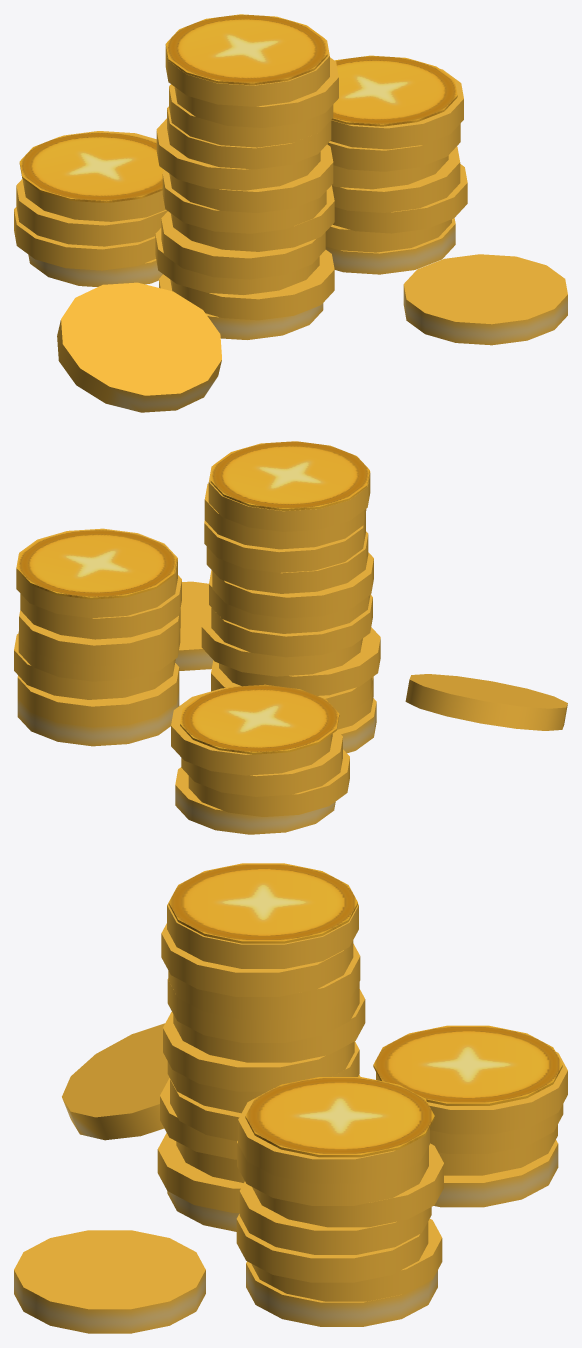
The model's file is Decor_CoinStack.fbx.
3 views of the same model, one above another, from view 1: azimuth 30°, elevation 25°; view 2: azimuth 150°, elevation 25°; view 3: azimuth 270°, elevation 25° (orthographic). The views are drawn at different scales.
Visible parts, largest first — view 1: Decor_CoinStack; view 2: Decor_CoinStack; view 3: Decor_CoinStack.
Part boxes in pixels (x1=…): Decor_CoinStack: x1=14, y1=14, x2=567, y2=412; Decor_CoinStack: x1=14, y1=441, x2=567, y2=834; Decor_CoinStack: x1=14, y1=863, x2=567, y2=1333.
Bounding box in the file's own units: 0.4862 × 0.2622 × 0.4332.
1 material, 1 textured.
